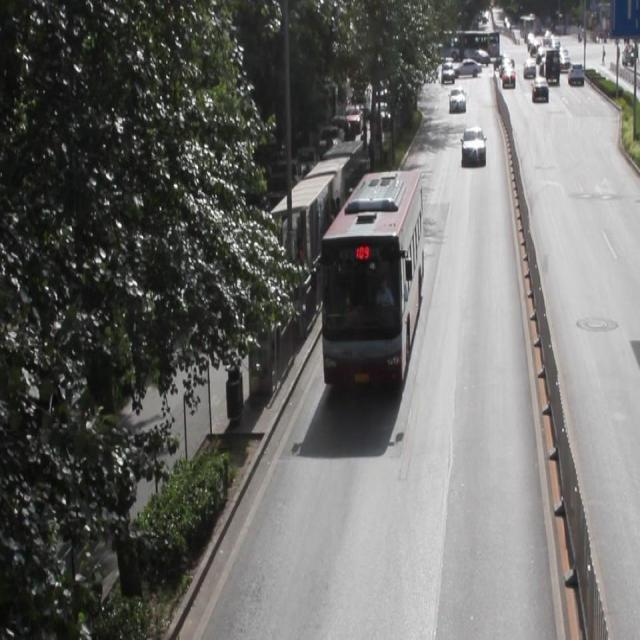BigCar: (321, 168, 426, 401)
car: (457, 122, 492, 178), (530, 76, 551, 108), (455, 57, 483, 80), (567, 58, 588, 87), (448, 86, 470, 112), (441, 59, 456, 87), (503, 67, 519, 91)
